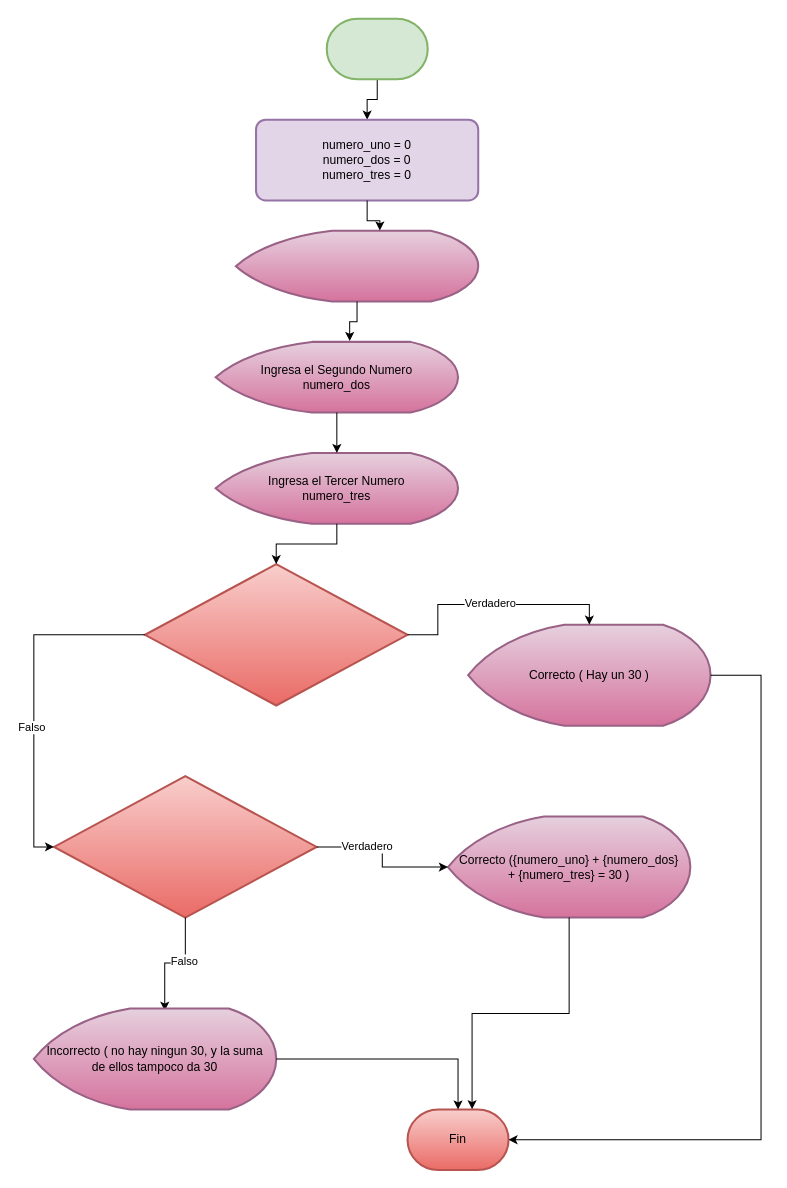
Image size: 787x1188. Some labels were removed from this diagram. Here are the shapes that lost their labels. From the top down, the centre of each, then its label:
At point 376,48: "Inicio".
At point 356,265: "Ingresa el Primer Numero numero_uno".
At point 275,634: "numero_uno = 30 y numero_dos = 30 y numero_tres = 30".
At point 185,846: "numero_uno + numero_dos + numero_tres = 30".
